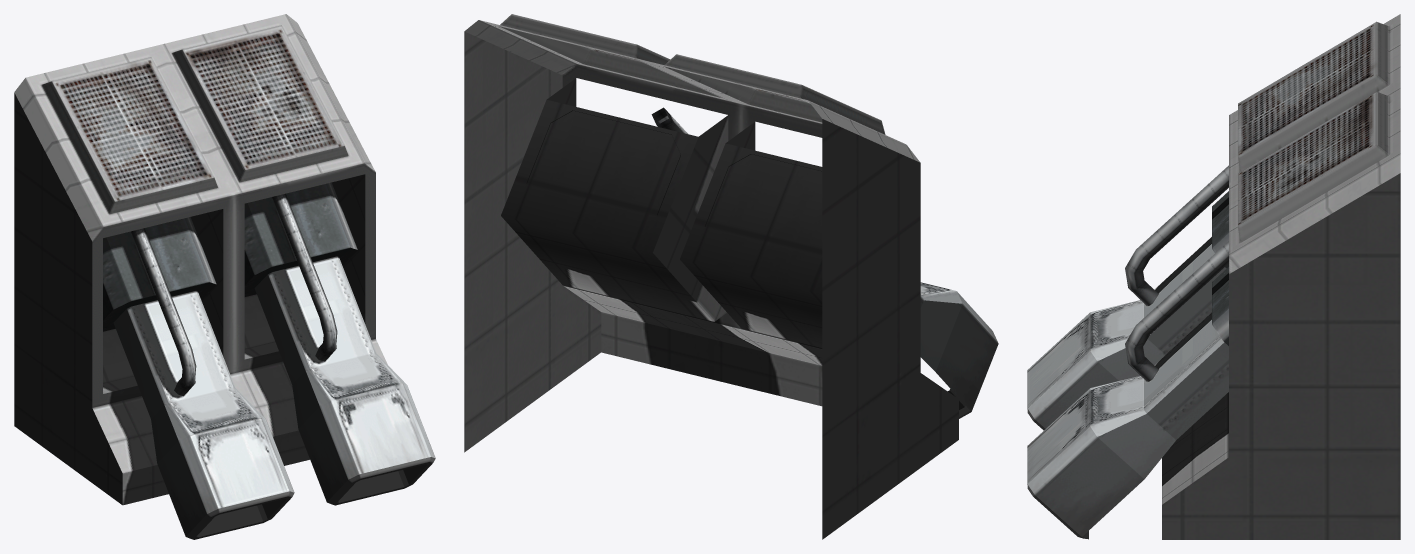
The model's file is OBJ_Exhaust.FBX.
The picture shows the model from 3 angles, left to right: view 1: azimuth 30°, elevation 25°; view 2: azimuth 150°, elevation 25°; view 3: azimuth 270°, elevation 25°; orthographic projection. The views are drawn at different scales.
Parts seen in each view (by area): view 1: OBJ_Exhaust; view 2: OBJ_Exhaust; view 3: OBJ_Exhaust.
Part boxes in pixels (x1,y1,x2,y2): OBJ_Exhaust: [14, 14, 435, 539]; OBJ_Exhaust: [464, 14, 998, 539]; OBJ_Exhaust: [1027, 14, 1400, 539].
Size of the model in its own units: 4.12 by 5.04 by 4.27.
1 material, 1 textured.
